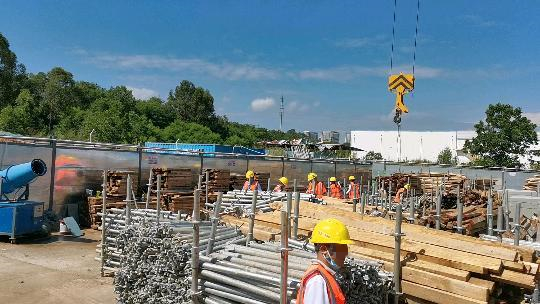helmet: (309, 219, 351, 247), (278, 176, 289, 187), (246, 170, 257, 180), (308, 171, 318, 181), (349, 174, 355, 181), (330, 178, 338, 182)
person: (281, 216, 352, 304), (303, 168, 326, 205), (267, 170, 291, 196), (238, 168, 261, 195), (343, 170, 362, 202), (327, 175, 345, 203)
vest: (297, 256, 341, 304), (347, 181, 361, 198), (312, 181, 327, 195), (243, 180, 261, 191), (330, 182, 343, 197), (273, 184, 283, 194)
